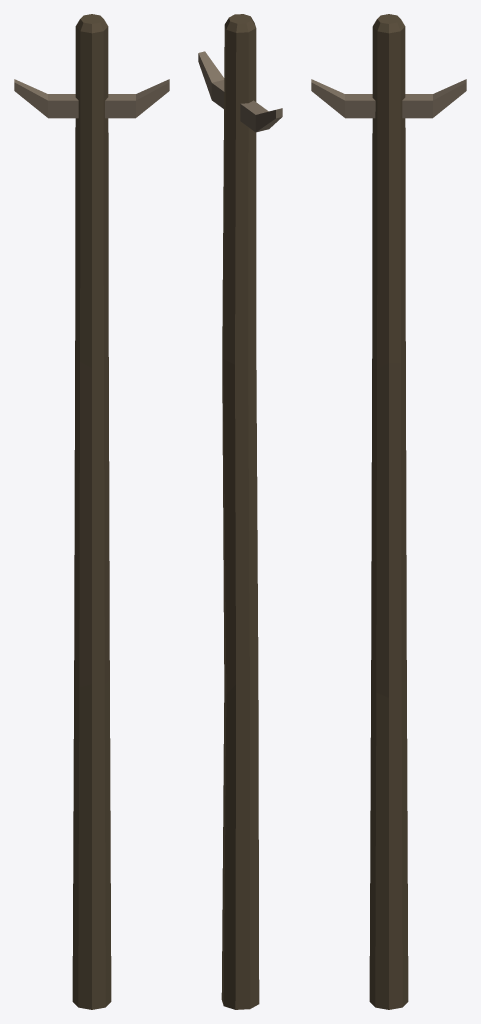
Rendered from steampunk_pole_1.fbx.
The picture shows the model from 3 angles, left to right: view 1: azimuth 90°, elevation 25°; view 2: azimuth 210°, elevation 25°; view 3: azimuth 270°, elevation 25°; orthographic projection.
Visible parts, largest first — view 1: Cylinder.010; view 2: Cylinder.010; view 3: Cylinder.010.
Boxes of the visible parts, bbox=[...] form: Cylinder.010: bbox=[14, 14, 169, 1009]; Cylinder.010: bbox=[198, 14, 282, 1009]; Cylinder.010: bbox=[311, 14, 466, 1009].
Bounding box in the file's own units: 0.1014 × 2.8 × 0.4.
